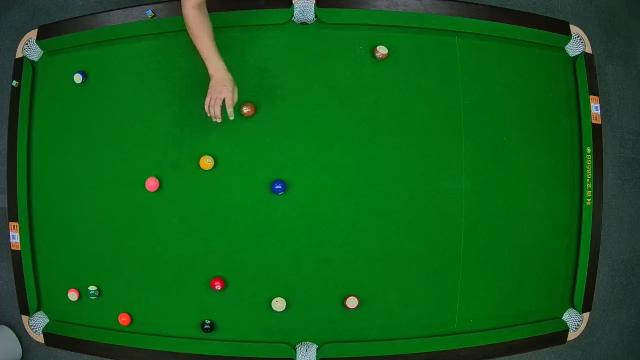bag1: (22, 39, 40, 61)
bag2: (290, 1, 318, 25)
bag3: (566, 34, 586, 56)
bag4: (28, 312, 50, 334)
bag5: (294, 340, 318, 360)
bag6: (562, 308, 584, 332)
ball0: (271, 297, 287, 313)
ball1: (198, 154, 216, 172)
ball10: (74, 72, 88, 84)
ball11: (344, 294, 360, 310)
ball12: (67, 287, 81, 301)
ball14: (86, 284, 100, 300)
ball15: (372, 44, 388, 60)
ball2: (269, 178, 287, 196)
ball3: (208, 276, 224, 292)
ball4: (146, 176, 160, 192)
ball5: (118, 312, 132, 326)
ball7: (240, 103, 256, 118)
ball8: (200, 318, 216, 334)
